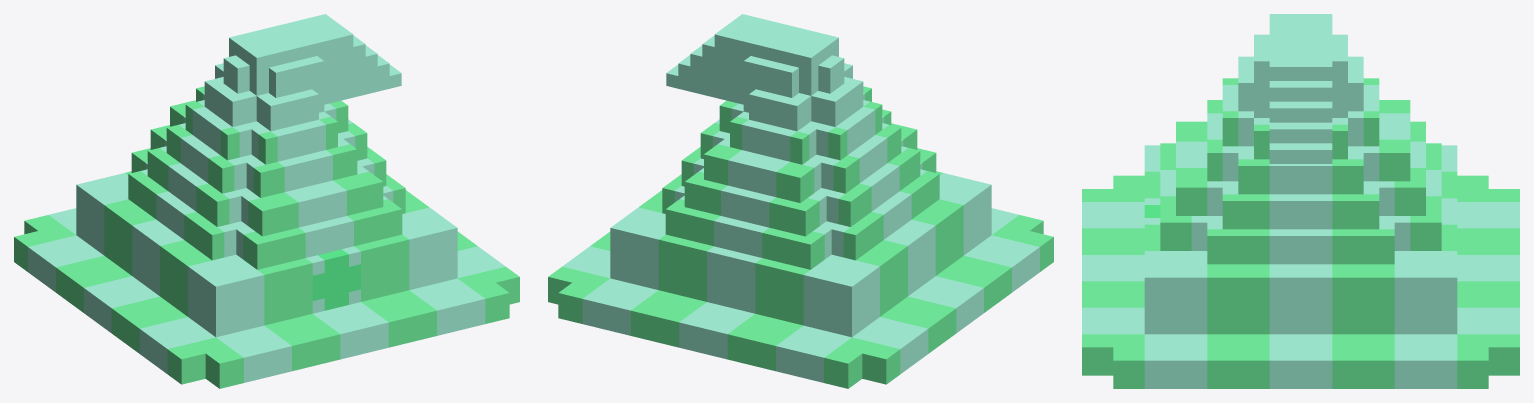
3 views of the same model, side by side, from view 1: azimuth 30°, elevation 25°; view 2: azimuth 150°, elevation 25°; view 3: azimuth 270°, elevation 25° (orthographic). The views are drawn at different scales.
Parts seen in each view (by area): view 1: 63; view 2: 63; view 3: 63.
Part boxes in pixels (x1=…): 63: x1=14, y1=14, x2=519, y2=388; 63: x1=548, y1=14, x2=1053, y2=388; 63: x1=1082, y1=14, x2=1519, y2=388.
Bounding box in the file's own units: 2.8 × 1.9 × 2.8.
Materials: 1 (1 with a texture image).
